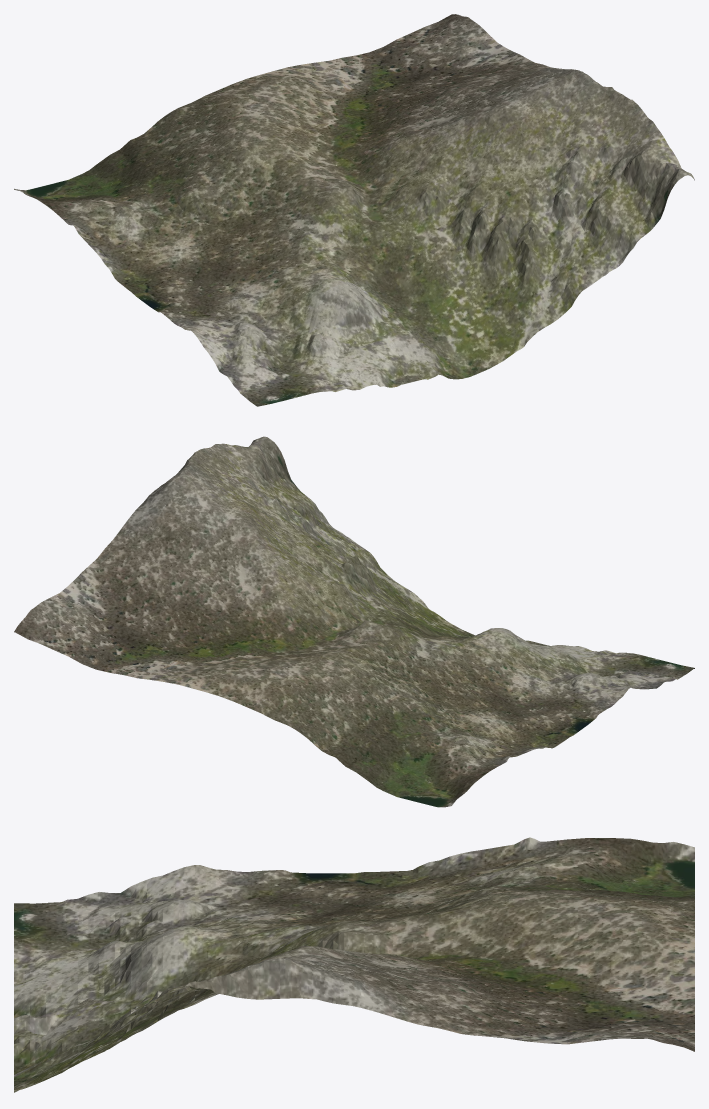
3 renders of one model, top to bottom at view 1: azimuth 30°, elevation 25°; view 2: azimuth 150°, elevation 25°; view 3: azimuth 270°, elevation 25°, orthographic. The views are drawn at different scales.
Size of the model in its own units: 1000 by 410 by 963.
1 material, 1 textured.
